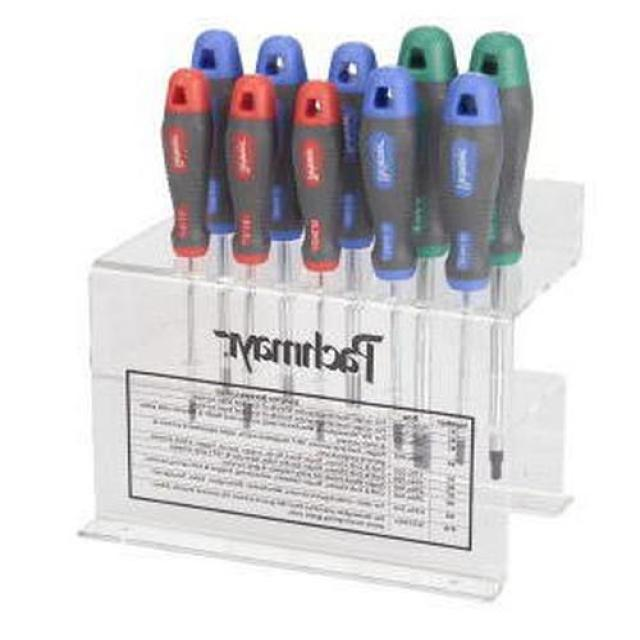screw_driver: (436, 72, 501, 485), (354, 62, 418, 433), (224, 70, 285, 438), (156, 68, 210, 427)
